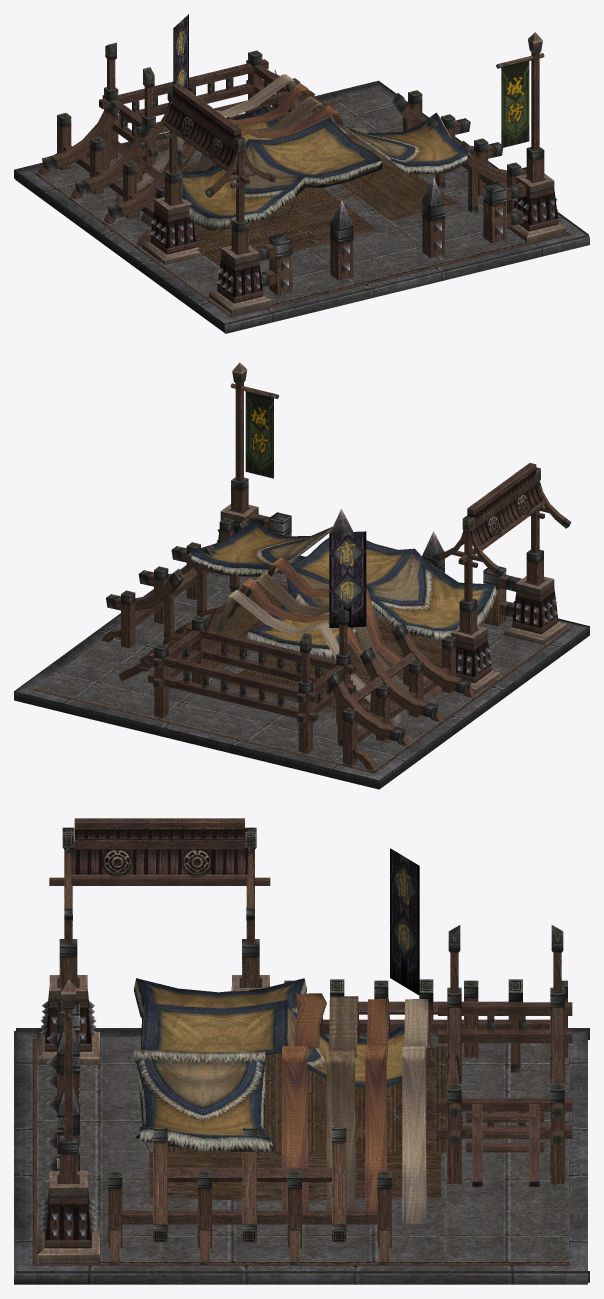
File: houseN1.glb
3 views of the same model, one above another, from view 1: azimuth 30°, elevation 25°; view 2: azimuth 150°, elevation 25°; view 3: azimuth 270°, elevation 25° (orthographic). The views are drawn at different scales.
Parts seen in each view (by area): view 1: g_69; view 2: g_69; view 3: g_69.
Boxes of the visible parts, box(x1,y1,x2,y2) form: g_69: box(14, 14, 589, 333); g_69: box(14, 362, 589, 789); g_69: box(14, 818, 589, 1284).
Size of the model in its own units: 20.04 by 10.85 by 20.07.
2 materials, 2 textured.
